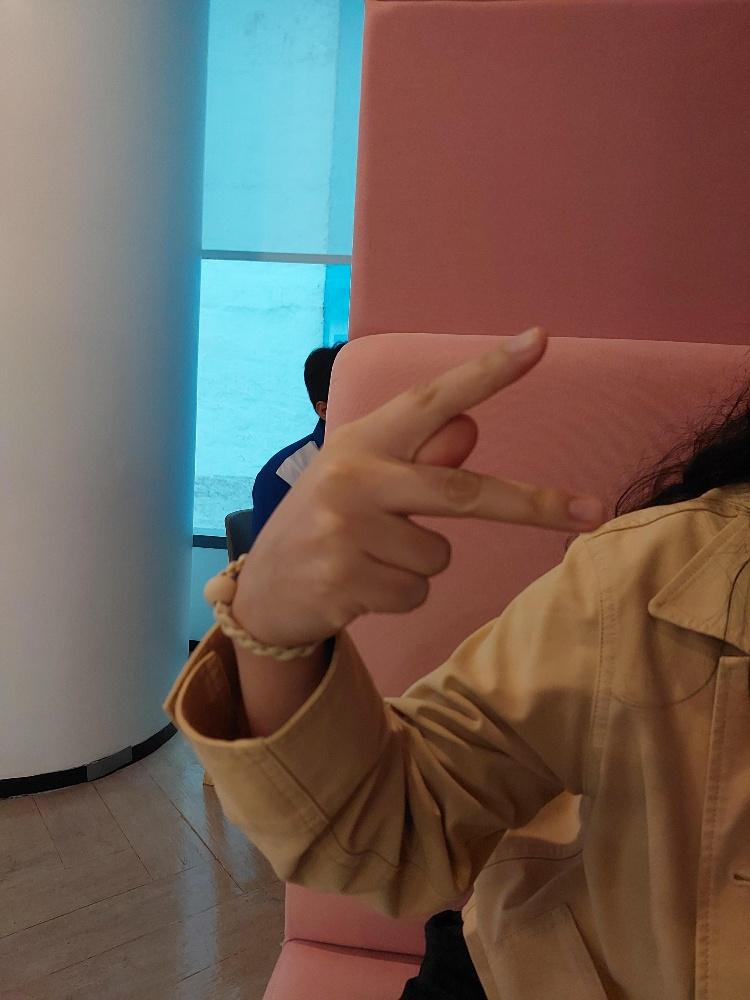k: (210, 317, 614, 645)
